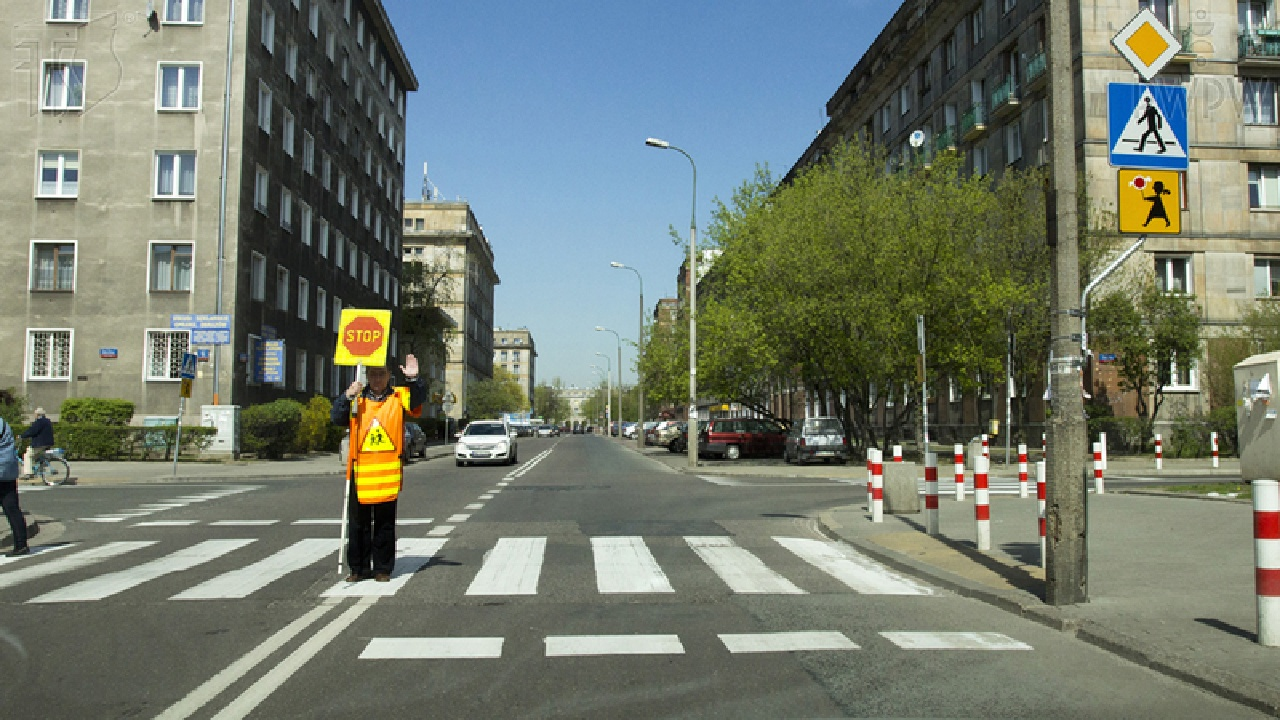B20: (344, 315, 384, 357)
D1: (1110, 7, 1183, 81)
D6: (1108, 82, 1190, 171)
